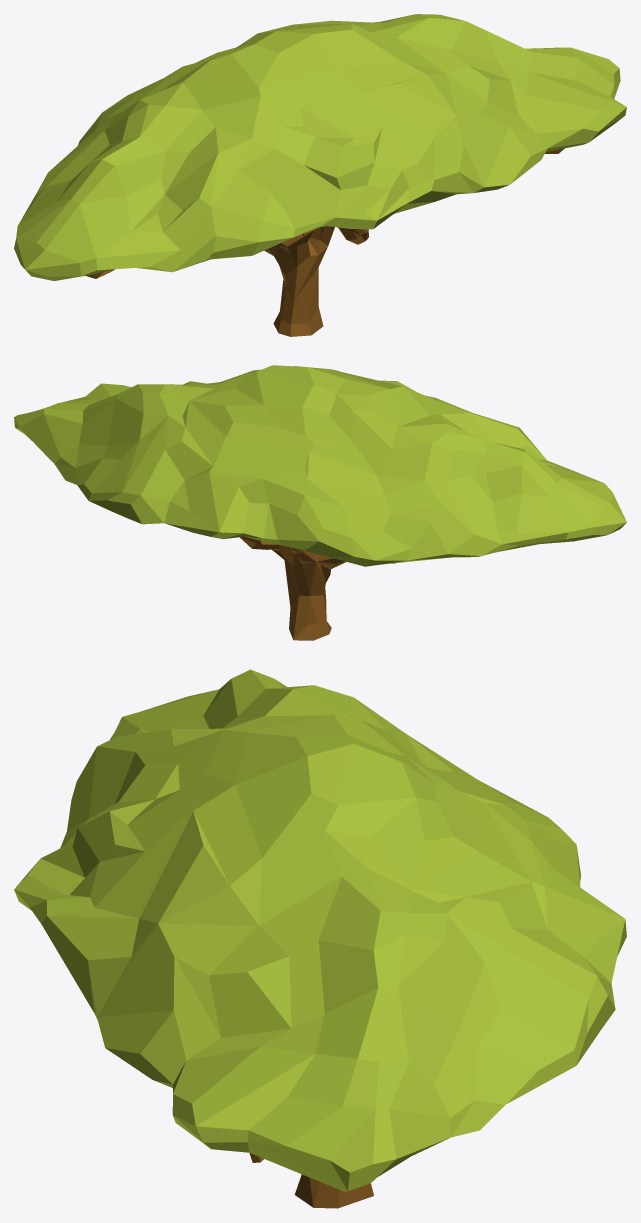
Rendered from Acacia.fbx.
3 views of the same model, one above another, from view 1: azimuth 30°, elevation 25°; view 2: azimuth 150°, elevation 25°; view 3: azimuth 270°, elevation 25° (orthographic). The views are drawn at different scales.
Visible parts, largest first — view 1: node-0; view 2: node-0; view 3: node-0.
Part boxes in pixels (x1,y1,x2,y2): node-0: (14, 14, 626, 336); node-0: (14, 365, 626, 640); node-0: (14, 669, 626, 1208).
Bounding box in the file's own units: 1166 × 510 × 638.
